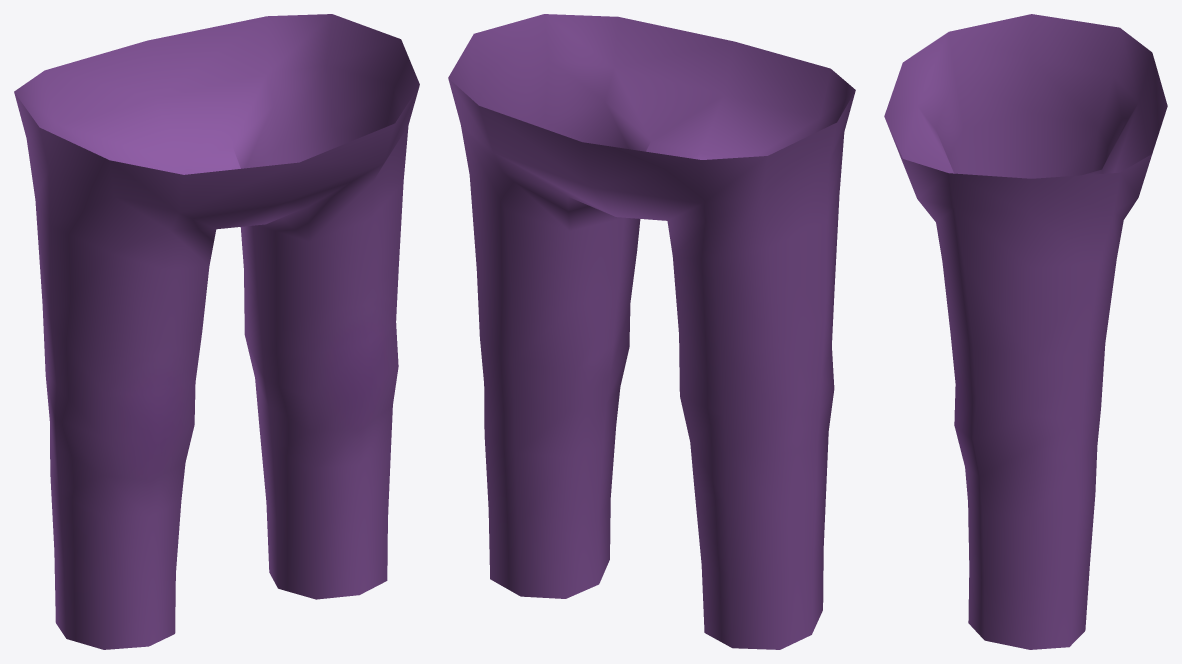
The model's file is Body_Purple_Bottom_2.fbx.
The picture shows the model from 3 angles, left to right: view 1: azimuth 30°, elevation 25°; view 2: azimuth 150°, elevation 25°; view 3: azimuth 270°, elevation 25°; orthographic projection. The views are drawn at different scales.
Parts seen in each view (by area): view 1: Body_Purple_Bottom_2; view 2: Body_Purple_Bottom_2; view 3: Body_Purple_Bottom_2.
Part boxes in pixels (<box>): Body_Purple_Bottom_2: <box>14,14,419,649</box>; Body_Purple_Bottom_2: <box>448,14,855,649</box>; Body_Purple_Bottom_2: <box>884,14,1167,649</box>.
Bounding box in the file's own units: 34.87 × 48 × 25.35.
